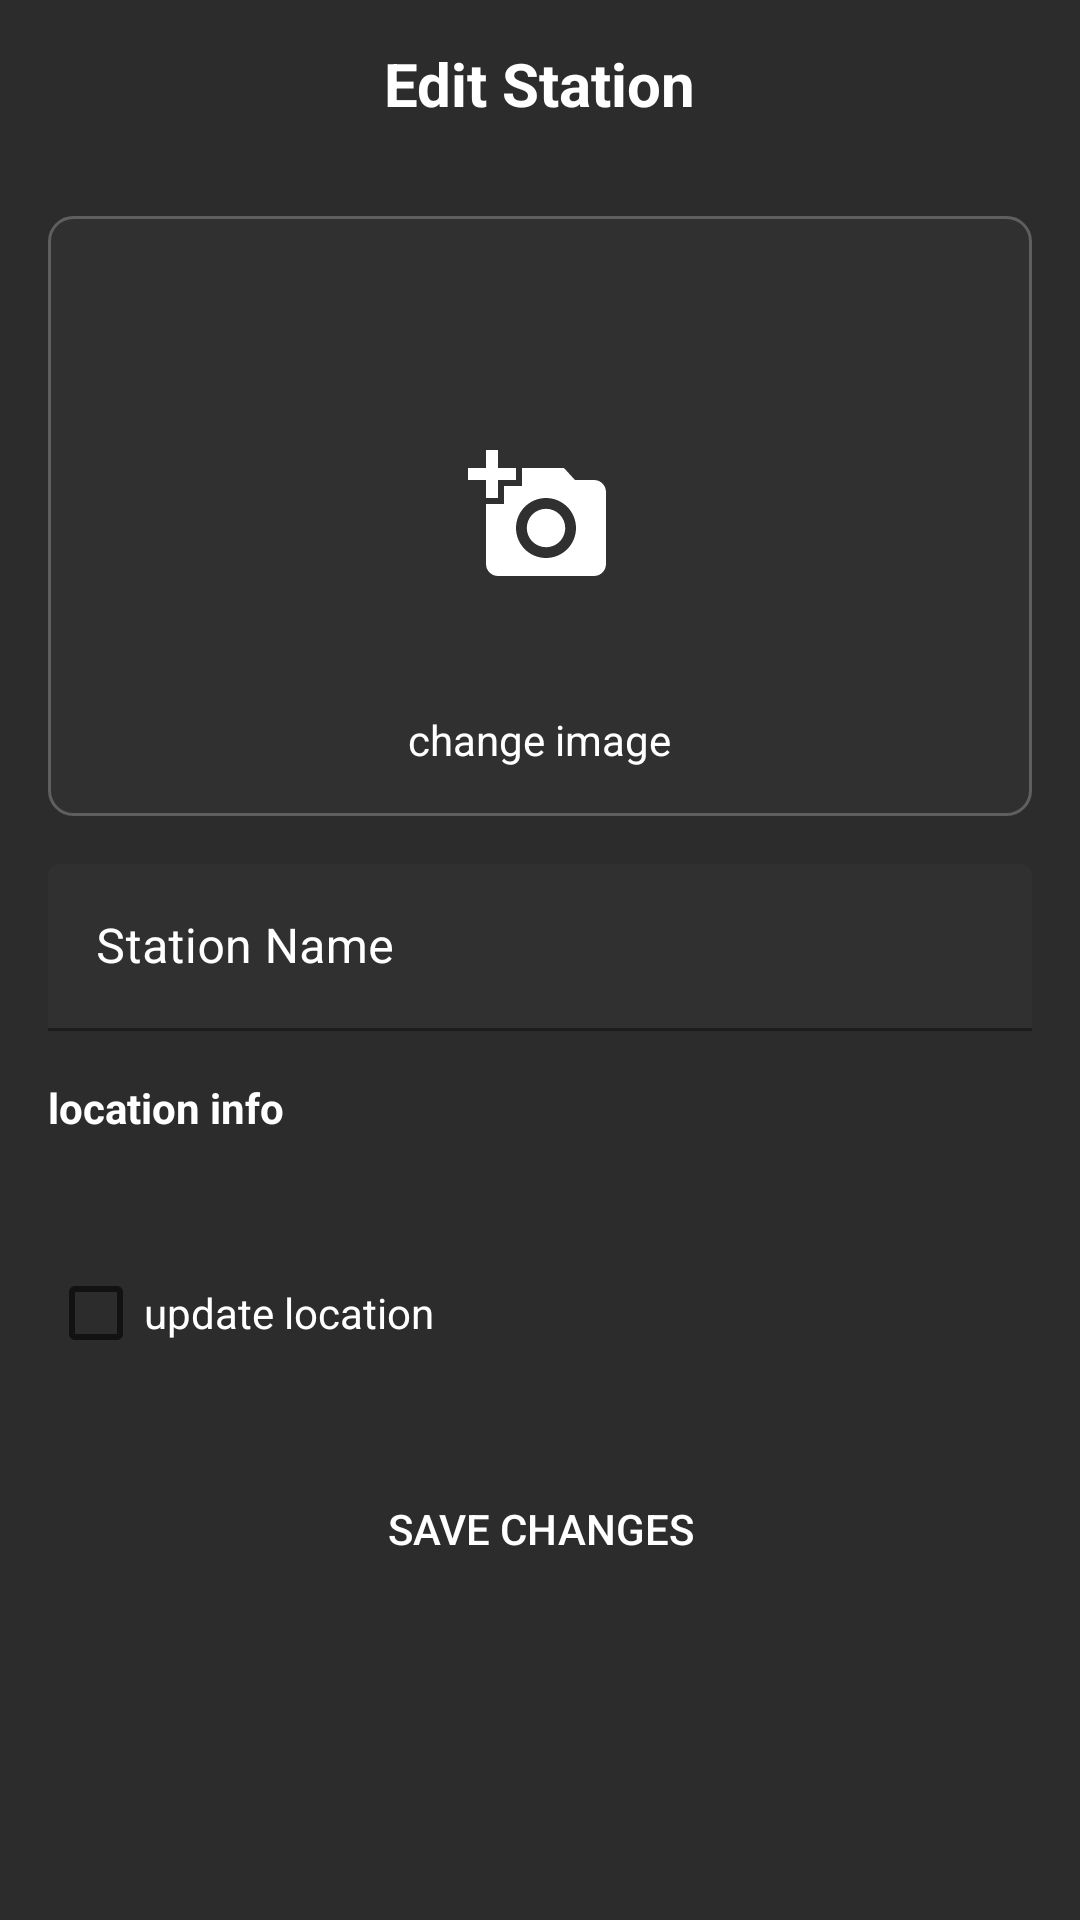

Icon click points for this 1080 x 1920 phone screenshot, format [x,y]:
Add Image: [537,513]
